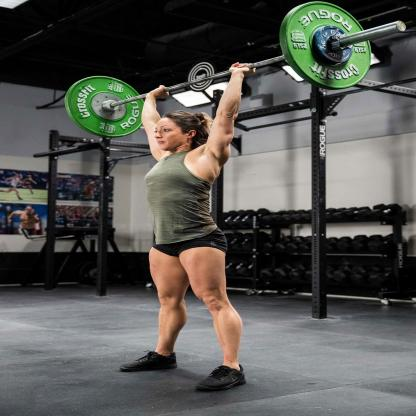barbell: (287, 2, 373, 90), (68, 77, 149, 139)
